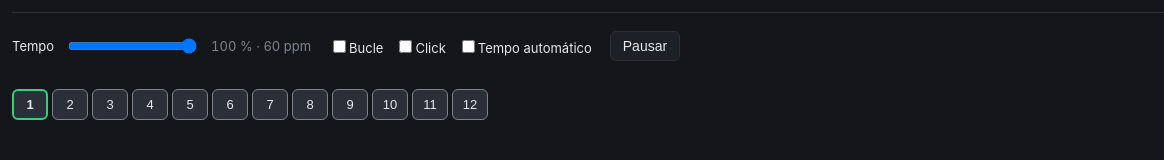
Test case: el tempo › mientras se arrastra no se manda nada, y se ve el valor que se lleva
Set the slider labelled "Tempo" to "55" at (104, 46), box [68,38,197,54]
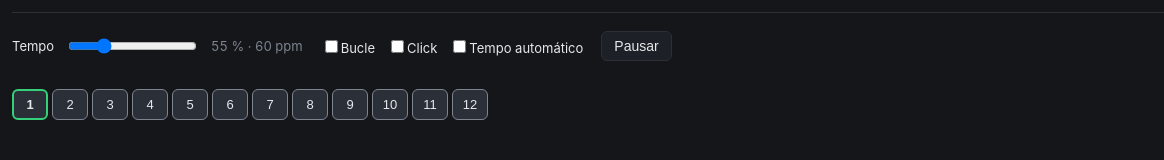
Now the text "55 % · 60 ppm" is shown, box [211,38,303,54]
